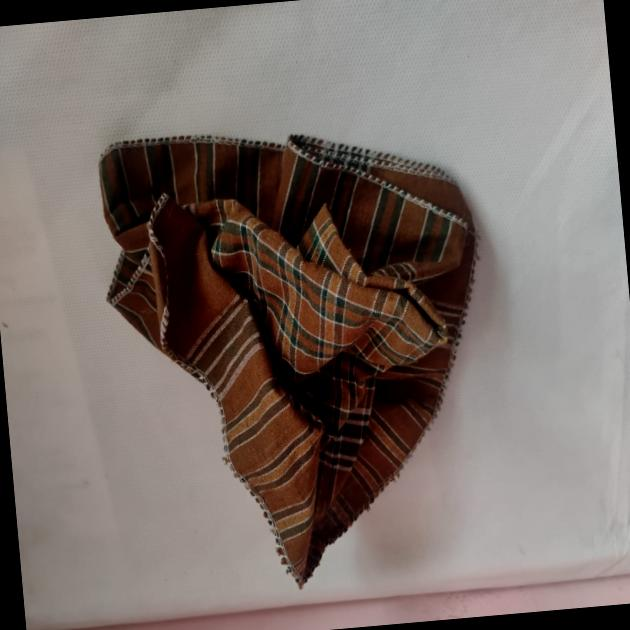kerchief: (107, 128, 564, 596)
